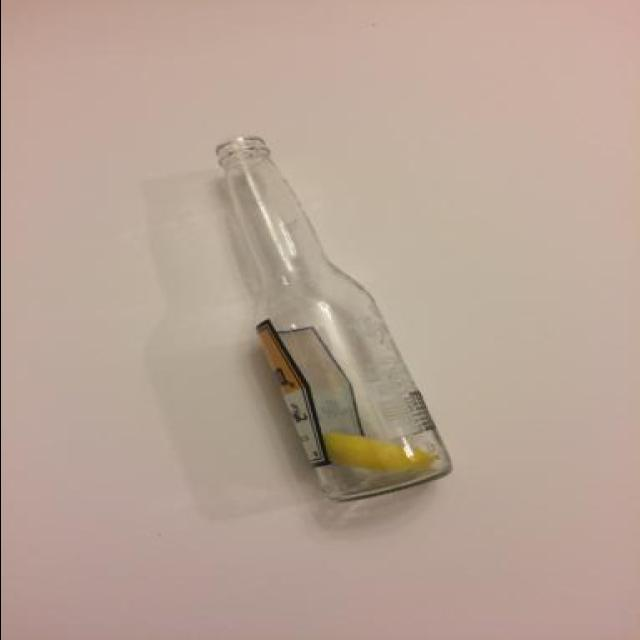Glass Bottle: (208, 134, 448, 505)
